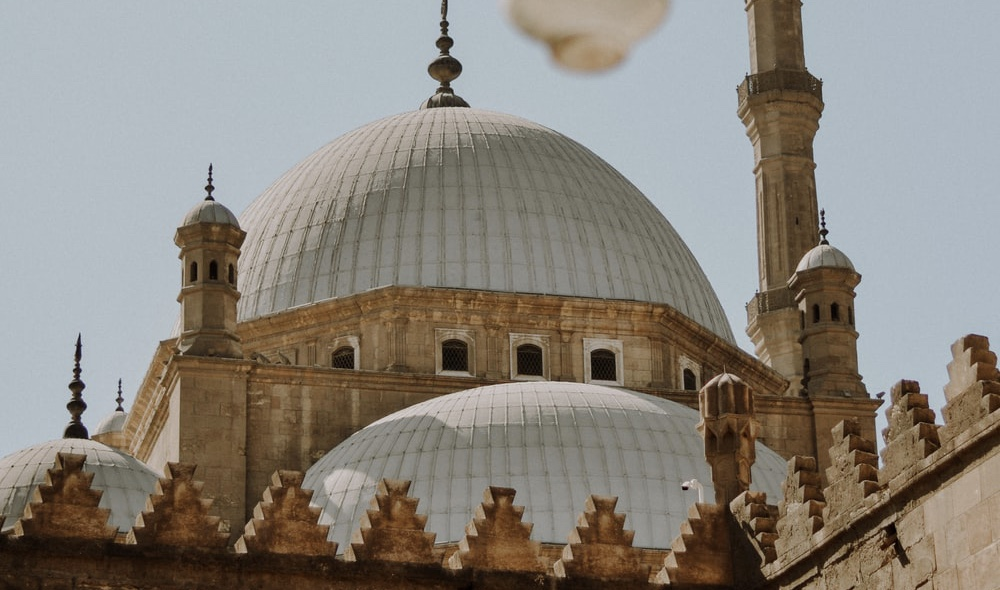Mosque: (35, 10, 973, 576)
